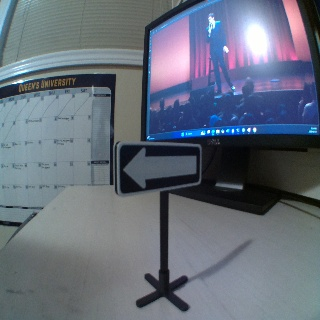sign_oneway_left: (112, 138, 201, 194)
